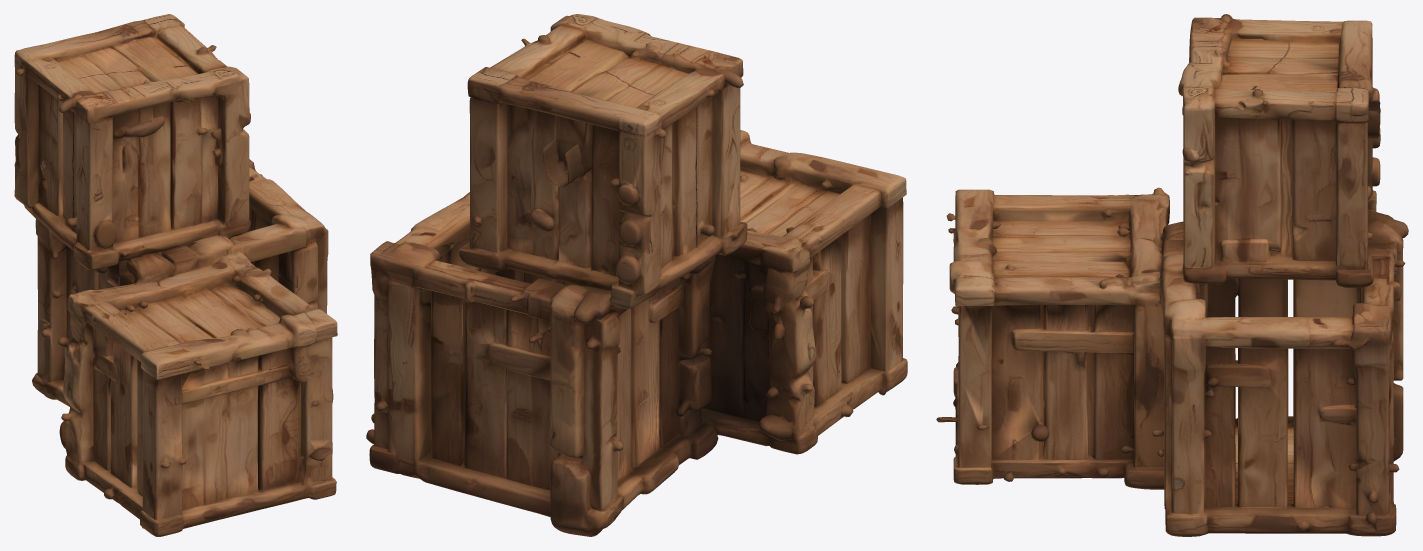
Rendered from prop-crate-stack.glb.
3 views of the same model, side by side, from view 1: azimuth 30°, elevation 25°; view 2: azimuth 150°, elevation 25°; view 3: azimuth 270°, elevation 25° (orthographic). The views are drawn at different scales.
Visible parts, largest first — view 1: tripo_node_eb06b080-3a92-4880-be95-e720a73e529d; view 2: tripo_node_eb06b080-3a92-4880-be95-e720a73e529d; view 3: tripo_node_eb06b080-3a92-4880-be95-e720a73e529d.
Boxes of the visible parts, box(x1,y1,x2,y2) form: tripo_node_eb06b080-3a92-4880-be95-e720a73e529d: box(14, 14, 337, 536); tripo_node_eb06b080-3a92-4880-be95-e720a73e529d: box(366, 14, 907, 536); tripo_node_eb06b080-3a92-4880-be95-e720a73e529d: box(936, 14, 1408, 536).
Size of the model in its own units: 1.24 by 1.5 by 1.54.
Materials: 1 (1 with a texture image).
